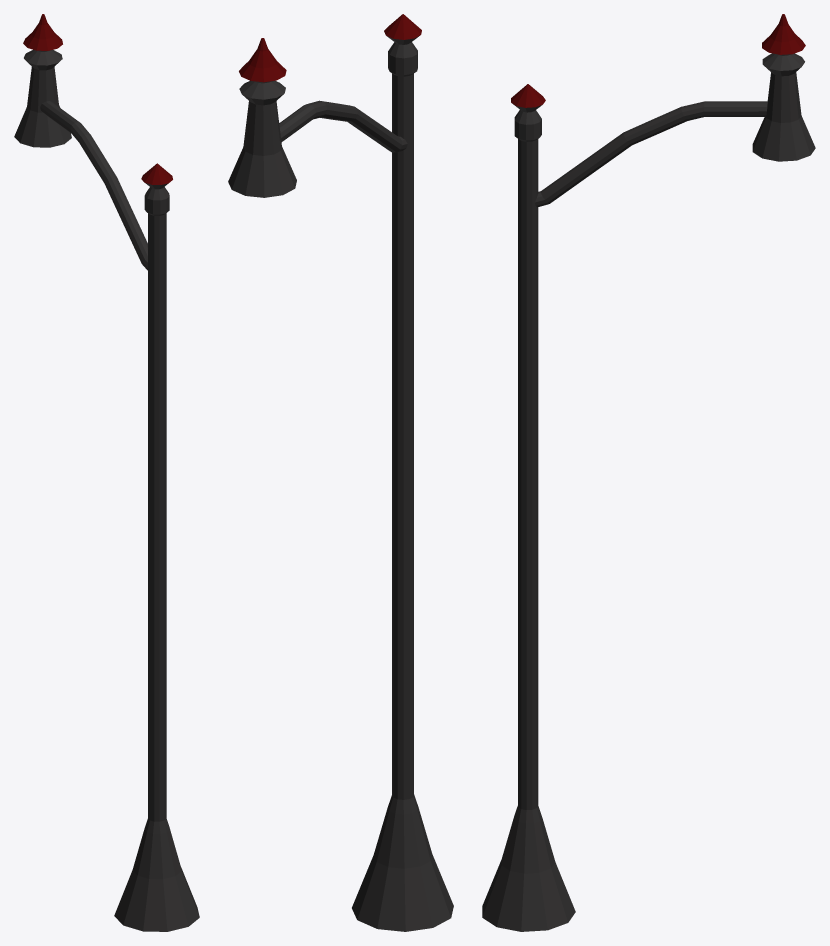
The model's file is Poste1.fbx.
3 views of the same model, side by side, from view 1: azimuth 30°, elevation 25°; view 2: azimuth 150°, elevation 25°; view 3: azimuth 270°, elevation 25° (orthographic). The views are drawn at different scales.
Visible parts, largest first — view 1: Cylinder.002; view 2: Cylinder.002; view 3: Cylinder.002.
Part boxes in pixels (bbox=[...]): Cylinder.002: bbox=[14, 14, 199, 931]; Cylinder.002: bbox=[228, 14, 453, 931]; Cylinder.002: bbox=[482, 14, 815, 931].
Size of the model in its own units: 28.58 by 299 by 101.
